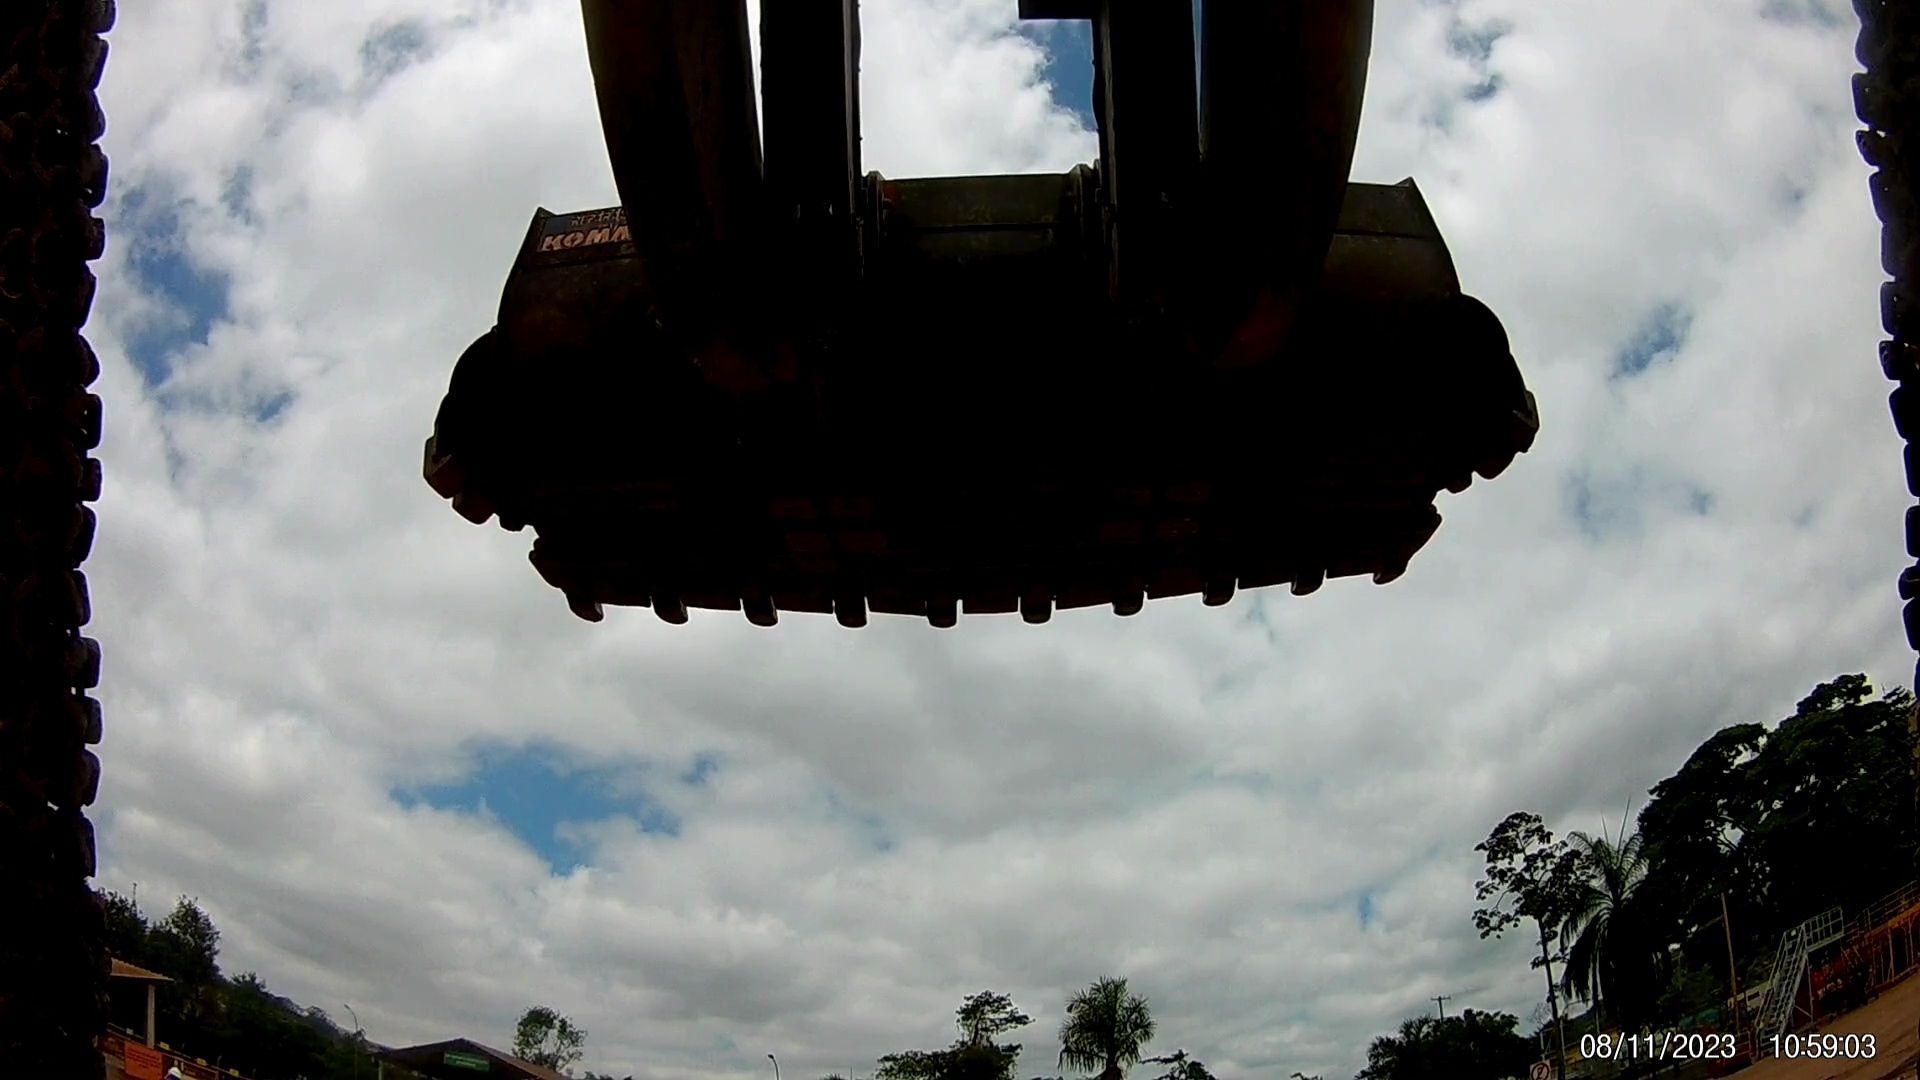FPS: (626, 572, 705, 657), (539, 574, 616, 653), (738, 572, 806, 647), (909, 574, 975, 647), (1197, 543, 1251, 629), (1004, 576, 1073, 641), (1298, 535, 1344, 632), (1113, 560, 1163, 644), (1375, 520, 1423, 603), (839, 567, 885, 647)
